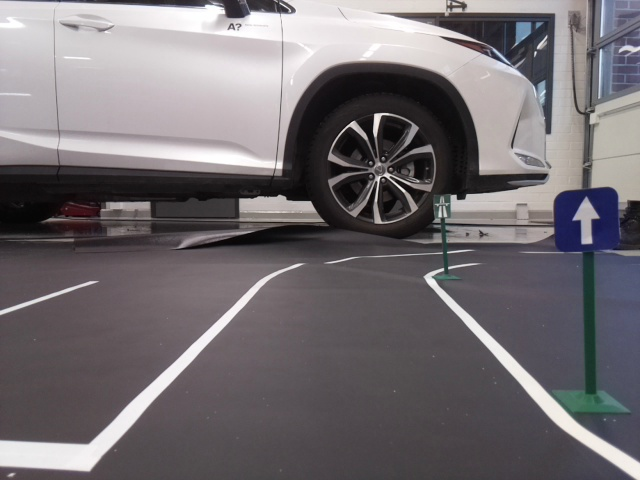HighwayEntrance: (433, 195, 451, 217)
OneWay: (552, 192, 619, 248)
